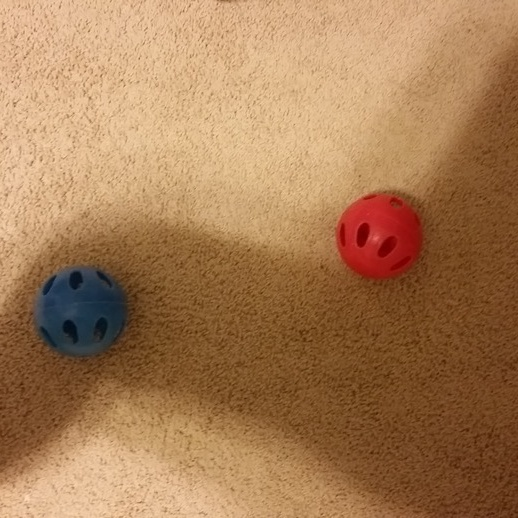blueball: (29, 259, 134, 362)
redball: (331, 186, 429, 286)
